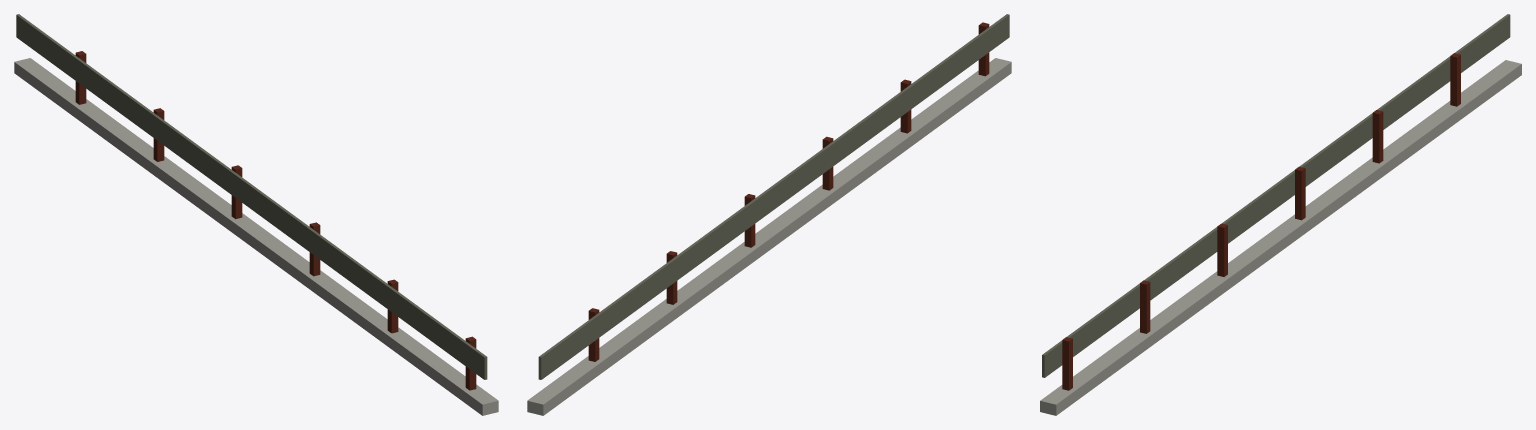
File: garage_rail_ns.glb
3 views of the same model, side by side, from view 1: azimuth 30°, elevation 25°; view 2: azimuth 150°, elevation 25°; view 3: azimuth 330°, elevation 25° (orthographic).
Visible parts, largest first — view 1: garage_rail_ns_conc, garage_rail_ns_steel, garage_rail_ns_rust; view 2: garage_rail_ns_conc, garage_rail_ns_steel, garage_rail_ns_rust; view 3: garage_rail_ns_conc, garage_rail_ns_steel, garage_rail_ns_rust.
Boxes of the visible parts, box(x1,y1,x2,y2) form: garage_rail_ns_conc: box(14, 58, 498, 415); garage_rail_ns_steel: box(16, 14, 487, 379); garage_rail_ns_rust: box(75, 51, 476, 390); garage_rail_ns_conc: box(527, 58, 1011, 415); garage_rail_ns_steel: box(538, 14, 1009, 379); garage_rail_ns_rust: box(588, 22, 989, 361); garage_rail_ns_conc: box(1040, 60, 1521, 415); garage_rail_ns_steel: box(1042, 14, 1510, 377); garage_rail_ns_rust: box(1062, 53, 1460, 390).
Bounding box in the file's own units: 0.24 × 0.86 × 12.
